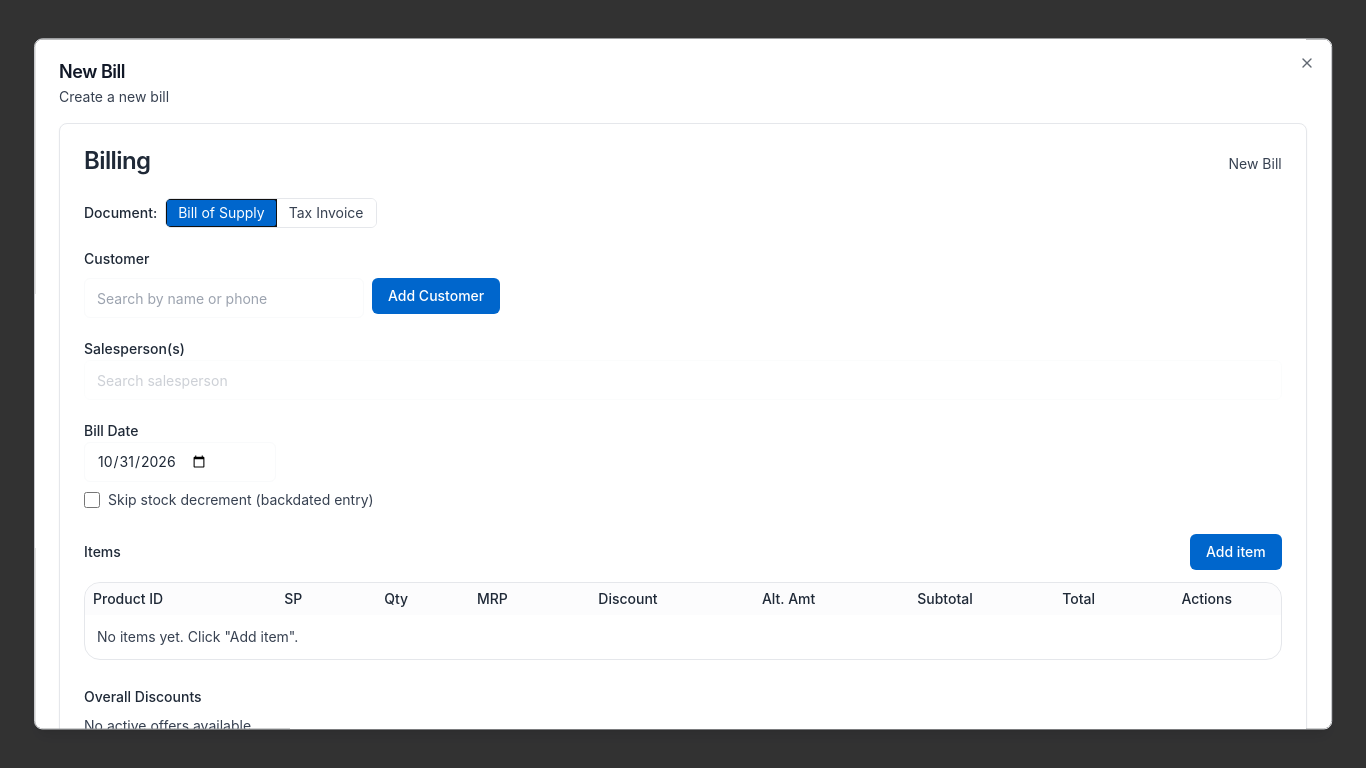
Summary GST line follows the docType toggle
Expected: the text "GST" is not shown
Click the button "Tax Invoice": (326, 213) [277, 199, 376, 227]
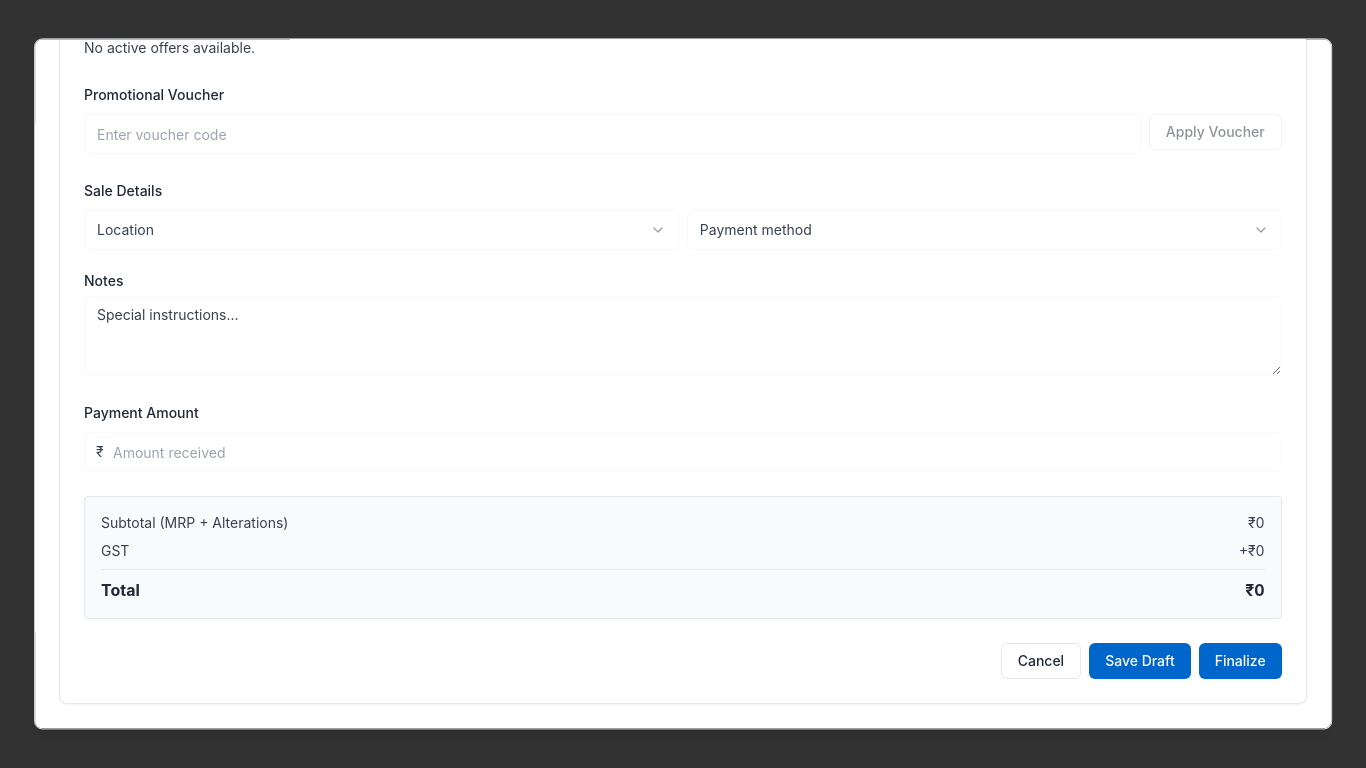
Expected: the text "GST" is shown, [101, 541, 130, 561]
